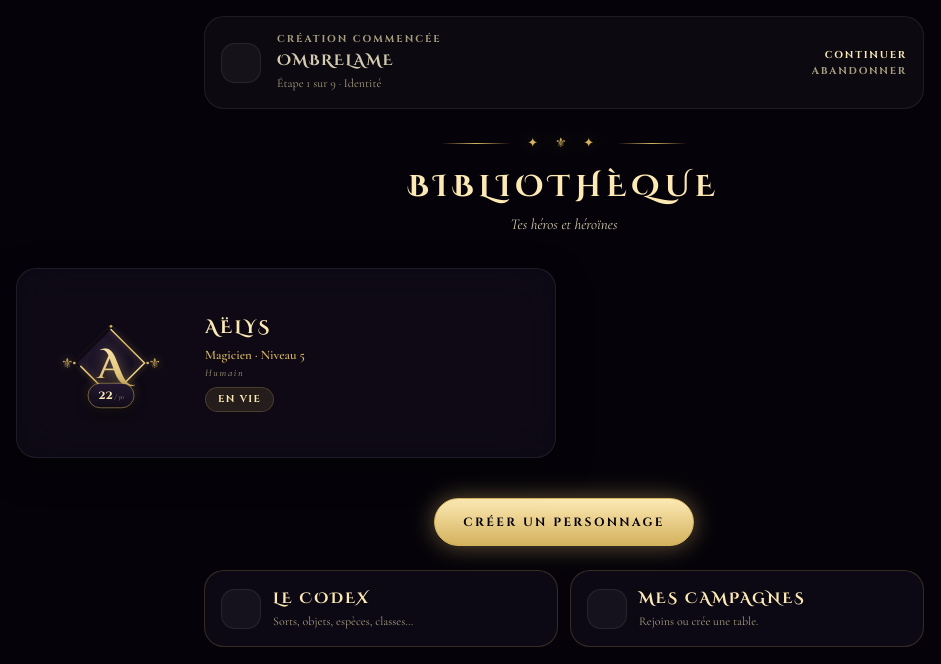
<LibraryScreen> › « Abandonner » vide le brouillon et retire le bandeau
Click the button with aria-label "Abandonner le brouillon de Ombrelame" at coordinates (859, 71), box [812,65,907,77]
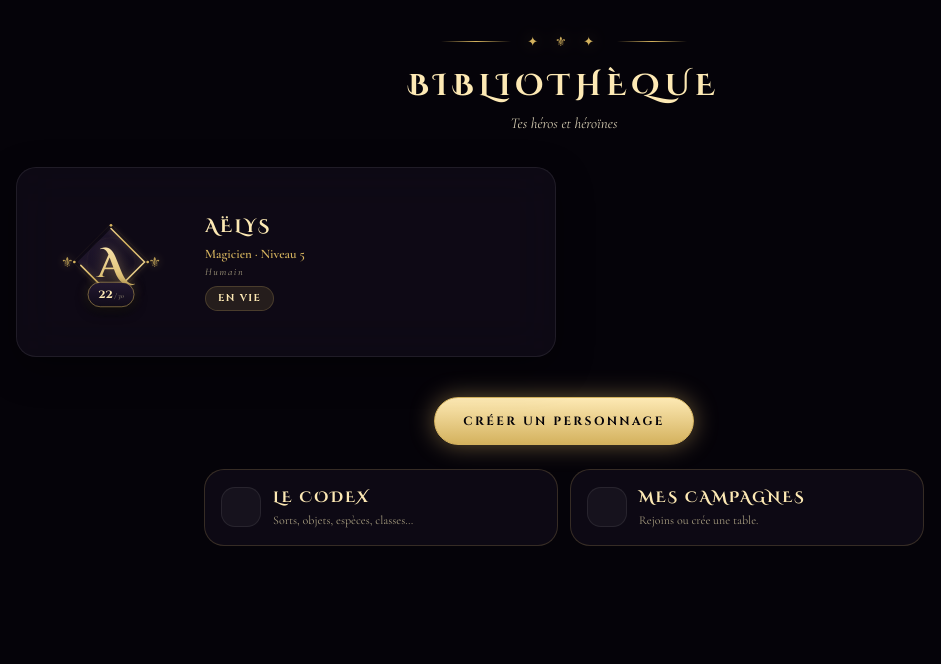
Expected: the text "Création commencée" is gone
